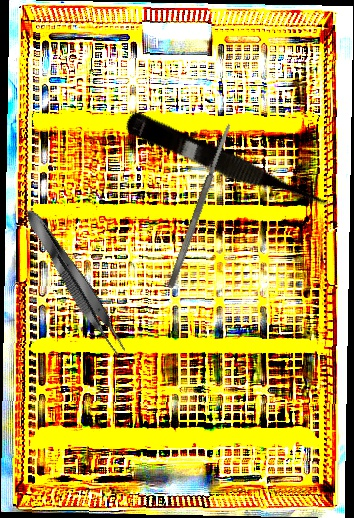Micro Scissor: (120, 109, 339, 223)
Spatula Surgical: (165, 121, 235, 290)
Tissue Forceps: (18, 203, 133, 361)
